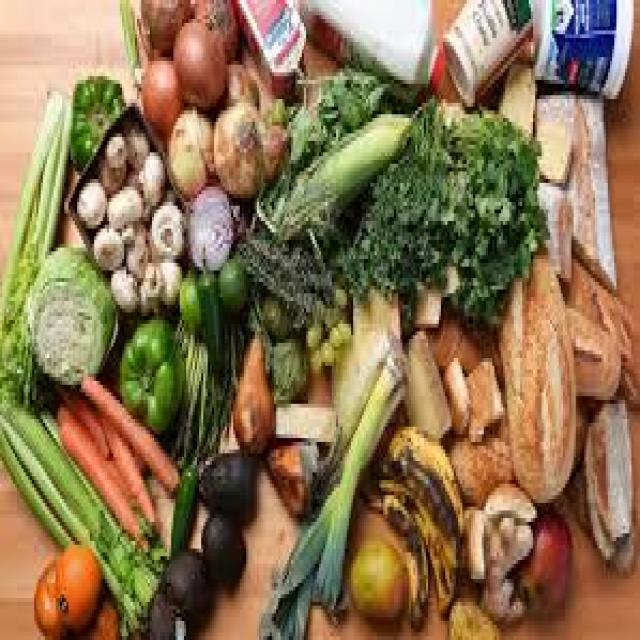food_waste: (42, 123, 577, 538)
